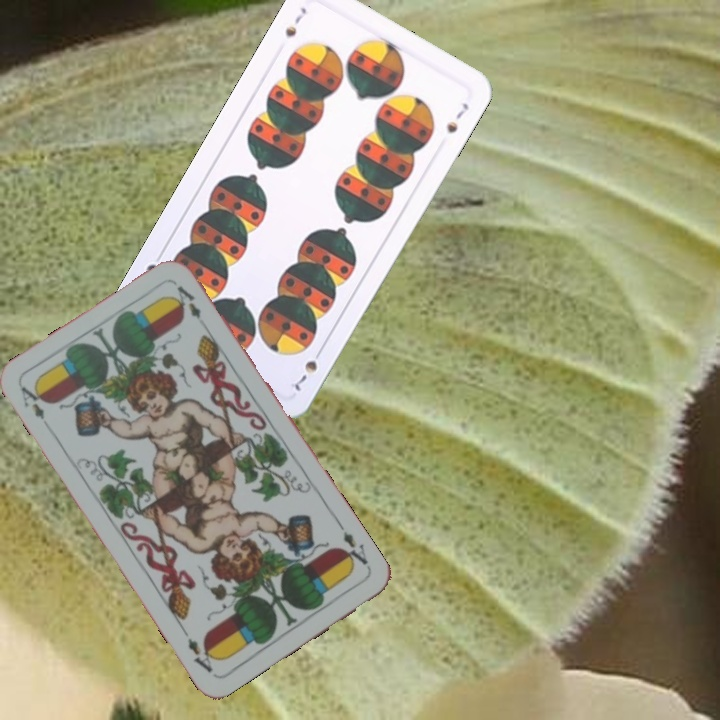EA: (336, 527, 371, 571), (17, 380, 50, 422)
S7: (290, 343, 326, 394), (281, 3, 310, 40)
